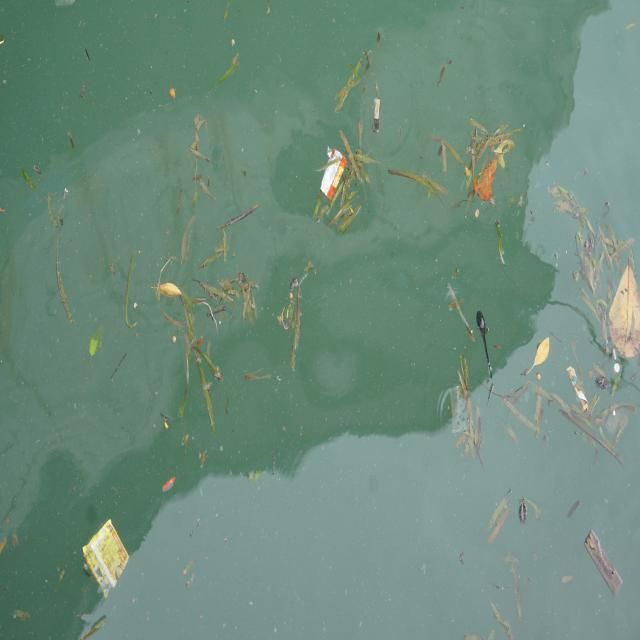Bungkus Makanan: (78, 514, 133, 603), (320, 141, 348, 205)
Bungkus Minuman: (449, 381, 473, 437)
